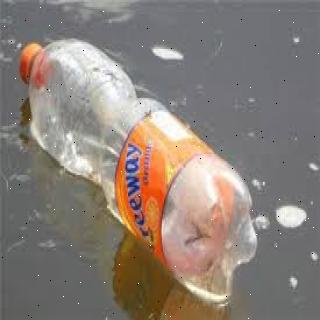Plastic-bottle: (18, 38, 261, 307)
